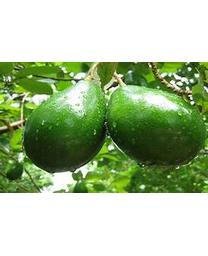avocado: (108, 85, 206, 168), (23, 79, 107, 172)
